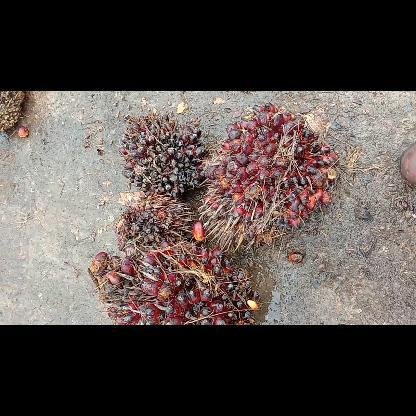Kurang masak: (92, 248, 258, 324)
TBS abnormal: (118, 113, 212, 198), (116, 190, 196, 250)
TBS masak: (198, 102, 338, 250)
